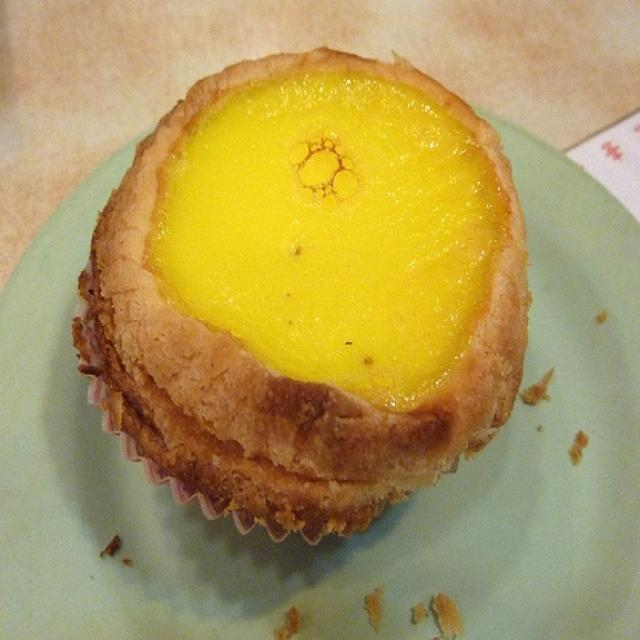炸货点心: (6, 47, 631, 634)
蛋糕甜品: (6, 47, 631, 634)
